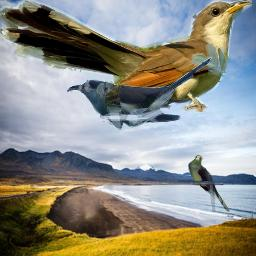Cuckoo: (0, 0, 252, 112), (67, 56, 217, 131), (188, 155, 232, 212)
